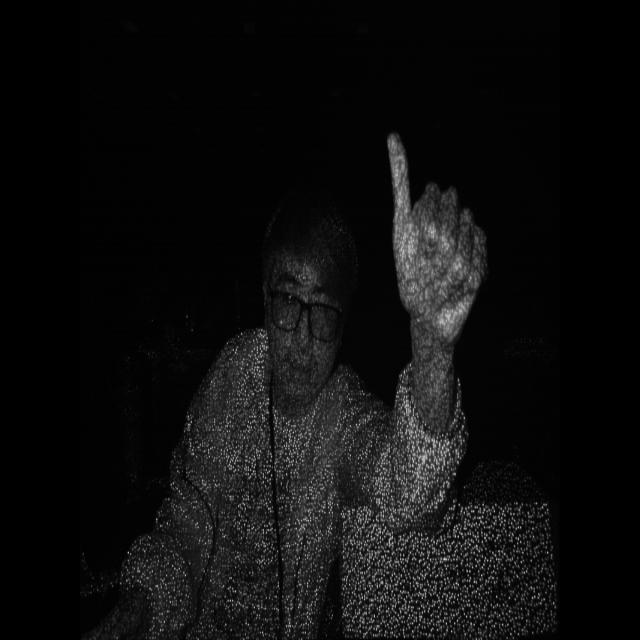A: (385, 113, 497, 368)
